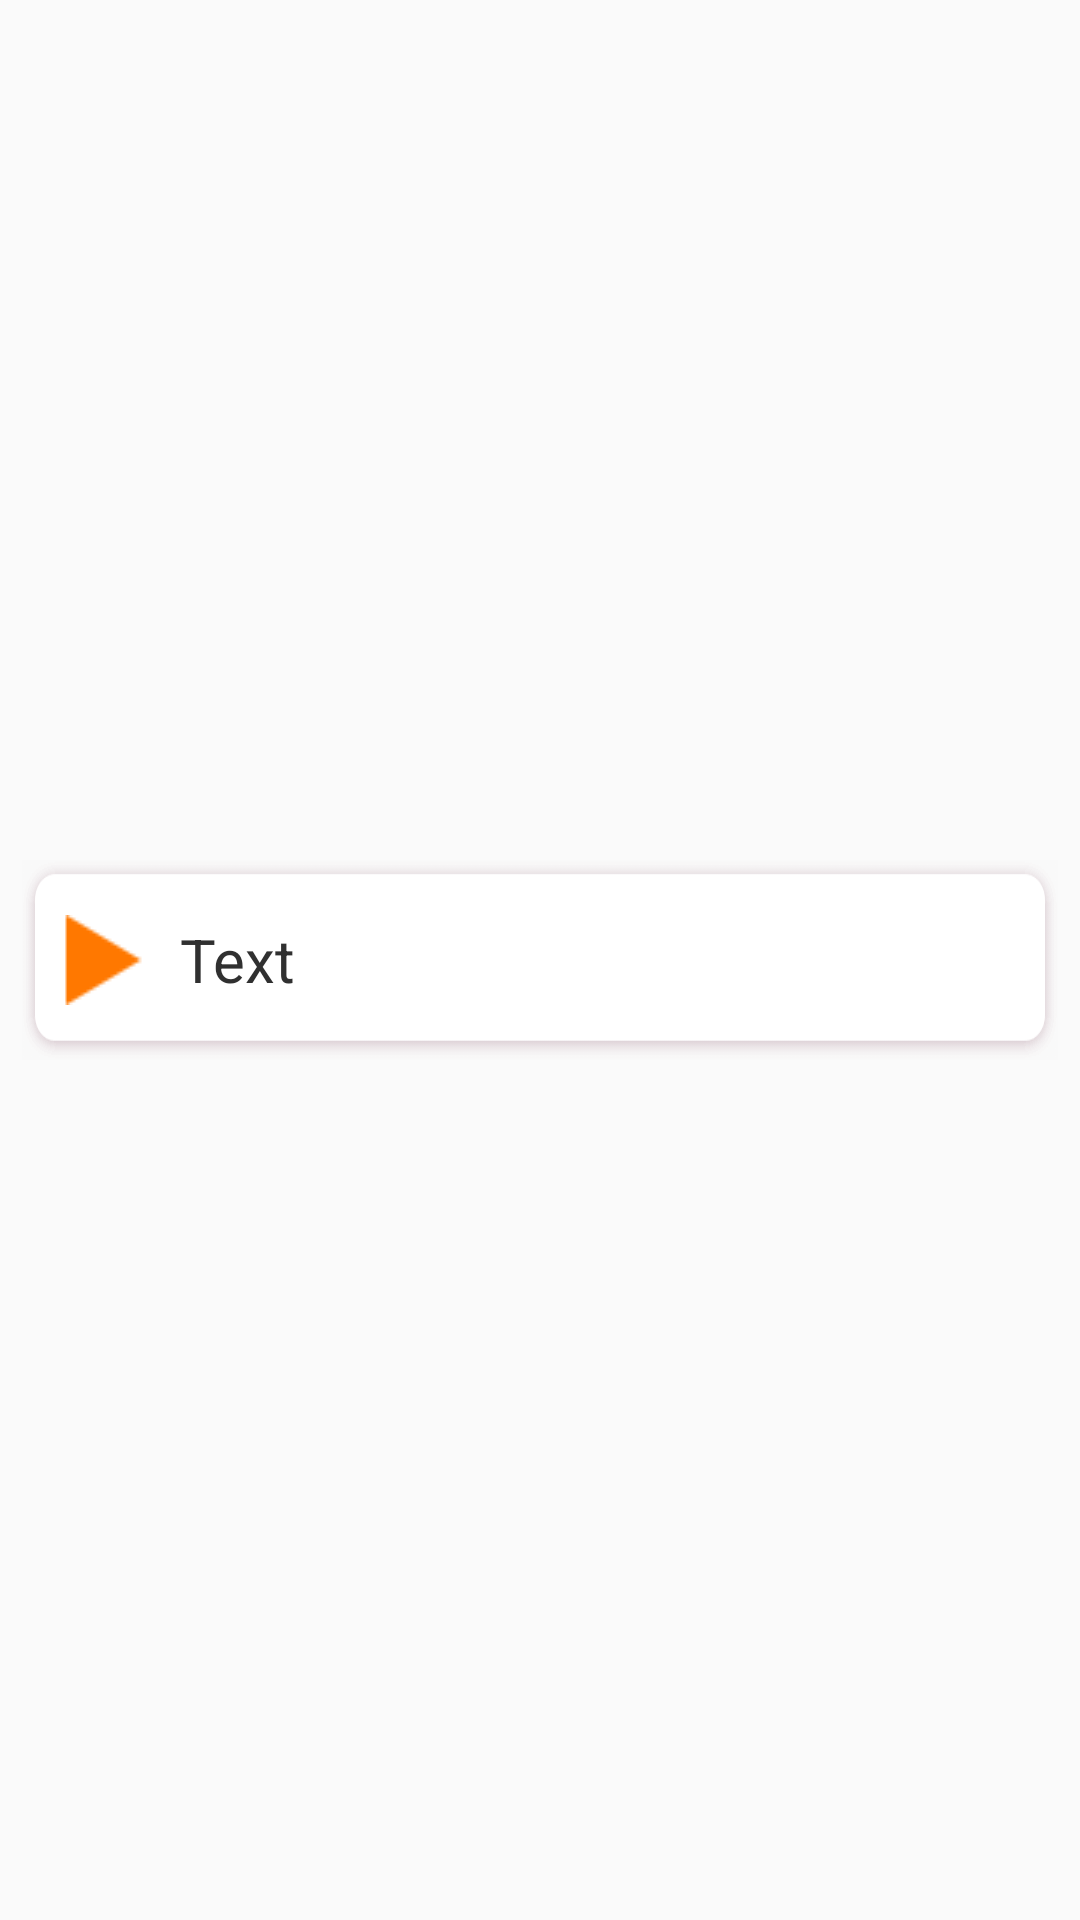

Named icons in this screenshot (1080*1920) and their centers, (x=x, y=y):
bullet: (x=103, y=960)
